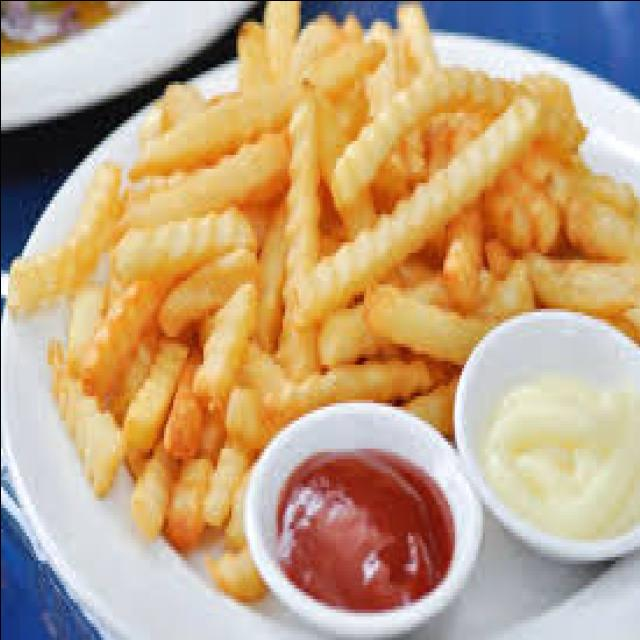kentang goreng: (291, 101, 535, 325)
